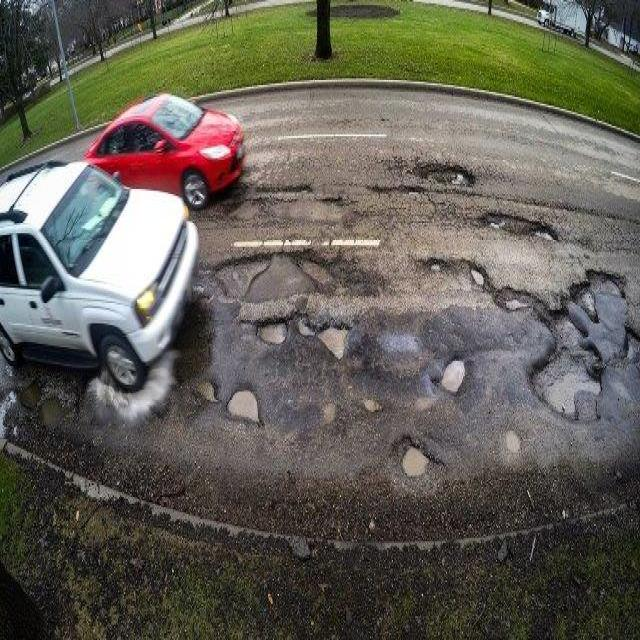jalan retak: (497, 187, 615, 221), (344, 199, 436, 238), (340, 251, 399, 304), (398, 198, 477, 232), (568, 227, 639, 260), (351, 148, 415, 182), (326, 108, 382, 133), (596, 204, 640, 231), (476, 158, 514, 188), (501, 124, 539, 152)
lubang: (523, 271, 639, 422), (1, 376, 82, 448), (213, 248, 274, 298), (370, 313, 430, 362), (386, 436, 445, 480), (476, 211, 555, 243), (285, 245, 338, 289), (413, 155, 475, 189), (313, 313, 355, 361), (248, 176, 314, 206), (434, 349, 469, 397), (367, 173, 428, 200), (223, 381, 259, 424), (457, 255, 494, 296), (491, 281, 532, 316), (254, 313, 290, 349), (287, 302, 318, 343), (35, 398, 65, 432), (420, 250, 451, 281), (316, 188, 356, 211), (318, 395, 343, 430), (194, 376, 220, 409), (500, 424, 524, 456), (357, 392, 383, 416), (13, 386, 41, 408)
